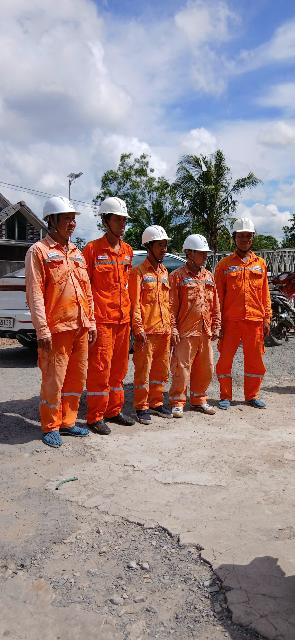helmet: (47, 190, 84, 226), (171, 227, 214, 256), (97, 196, 135, 224), (131, 223, 171, 247), (230, 211, 259, 238)
shoes: (34, 423, 65, 451), (57, 419, 91, 440), (192, 394, 218, 419), (149, 396, 173, 418), (253, 389, 274, 413), (131, 403, 152, 426), (210, 394, 235, 413), (110, 408, 131, 429), (92, 414, 113, 434), (164, 400, 184, 417)
